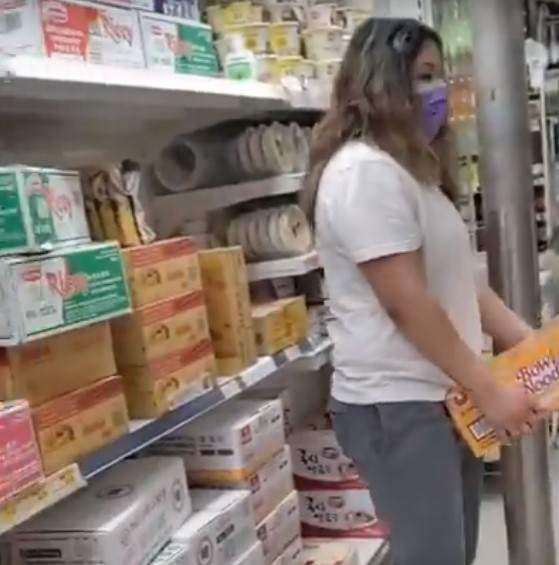face_with_mask: (370, 18, 452, 149)
